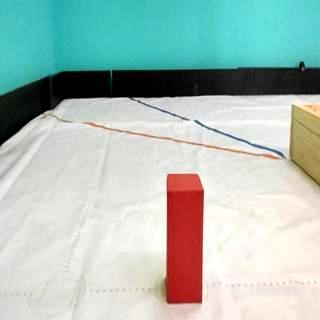redbox: (166, 173, 202, 304)
